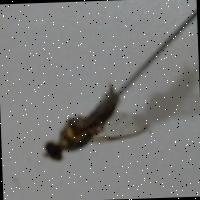Oriental-fruit-fly: (32, 77, 156, 166)
